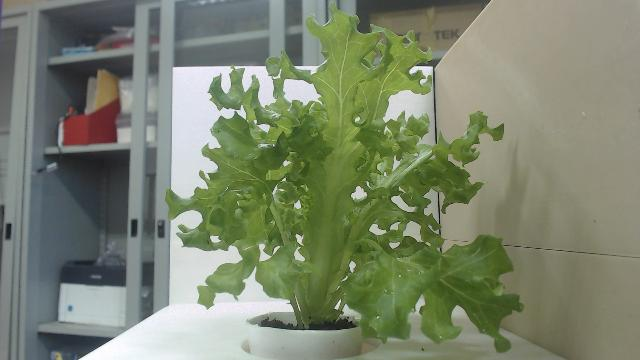Harvest Stage: (165, 1, 525, 353)
